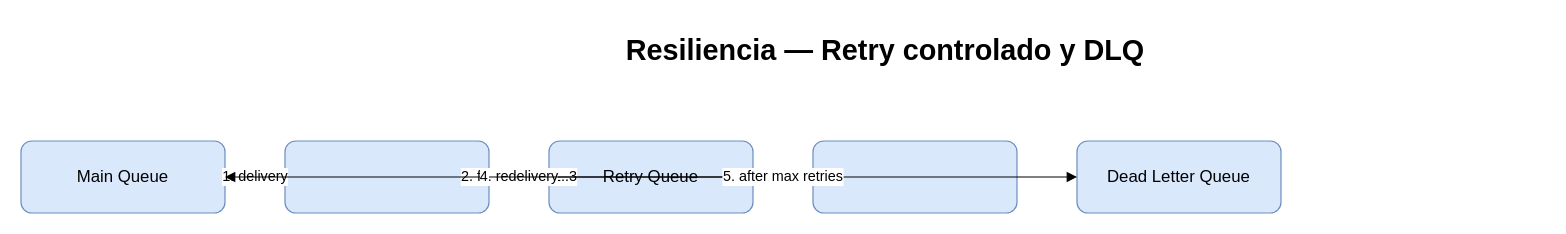
Image size: 1566x234. Some labels were removed from this diagram. The box of each missing label's shape, as (x1, y1, x2, y2) in pixels:
bank.events: (812, 140, 1017, 213)
Service Handler: (284, 140, 489, 213)
